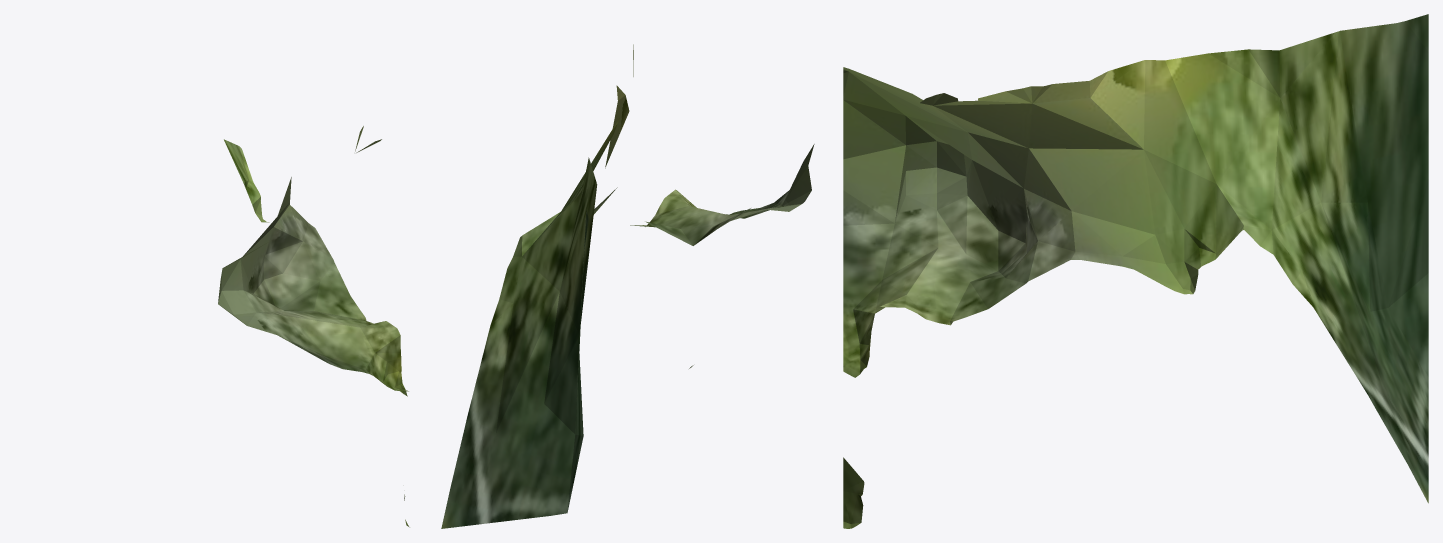
3 views of the same model, side by side, from view 1: azimuth 30°, elevation 25°; view 2: azimuth 150°, elevation 25°; view 3: azimuth 270°, elevation 25° (orthographic). The views are drawn at different scales.
Bounding box in the file's own units: 1.05 × 2.39 × 2.95.
Materials: 2 (2 with a texture image).
